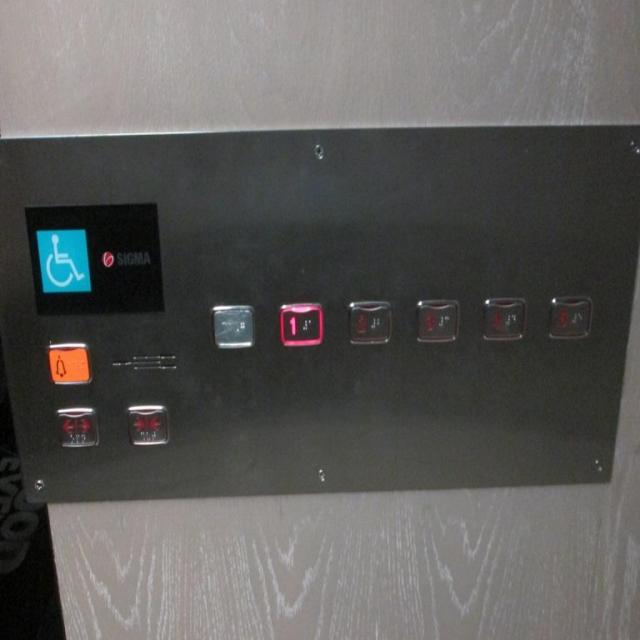1: (276, 298, 324, 348)
2: (343, 295, 393, 347)
3: (412, 295, 460, 344)
4: (479, 292, 529, 343)
5: (544, 290, 594, 342)
CH: (34, 226, 92, 294)
alarm: (43, 339, 93, 386)
blur: (207, 300, 257, 352)
close: (122, 400, 170, 450)
open: (52, 402, 102, 450)
